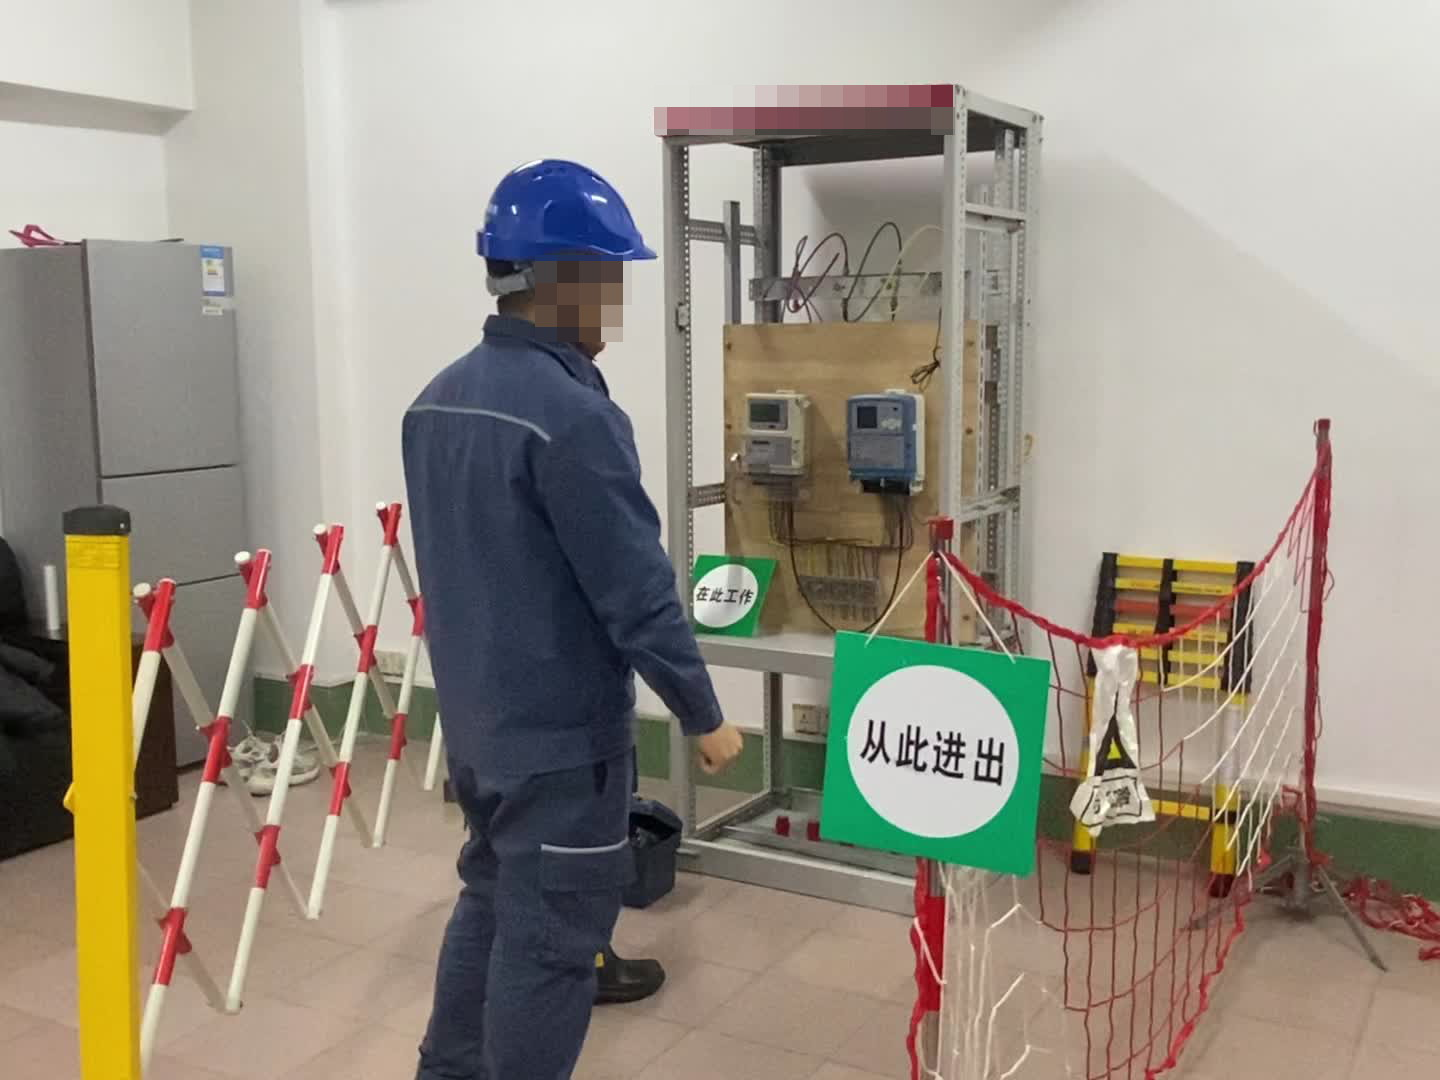downsuit: (407, 786, 649, 1080)
halt: (470, 156, 656, 351)
hand: (690, 719, 742, 772)
inear: (526, 251, 601, 328)
intosign: (809, 620, 1062, 881)
person: (387, 151, 750, 1080)
upsuit: (396, 313, 732, 784)
worksign: (685, 546, 782, 640)
